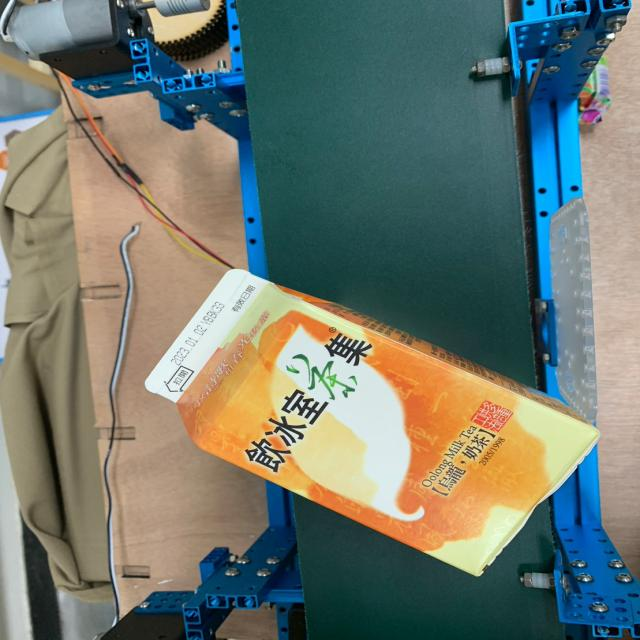non_white_jug: (95, 242, 621, 612)
